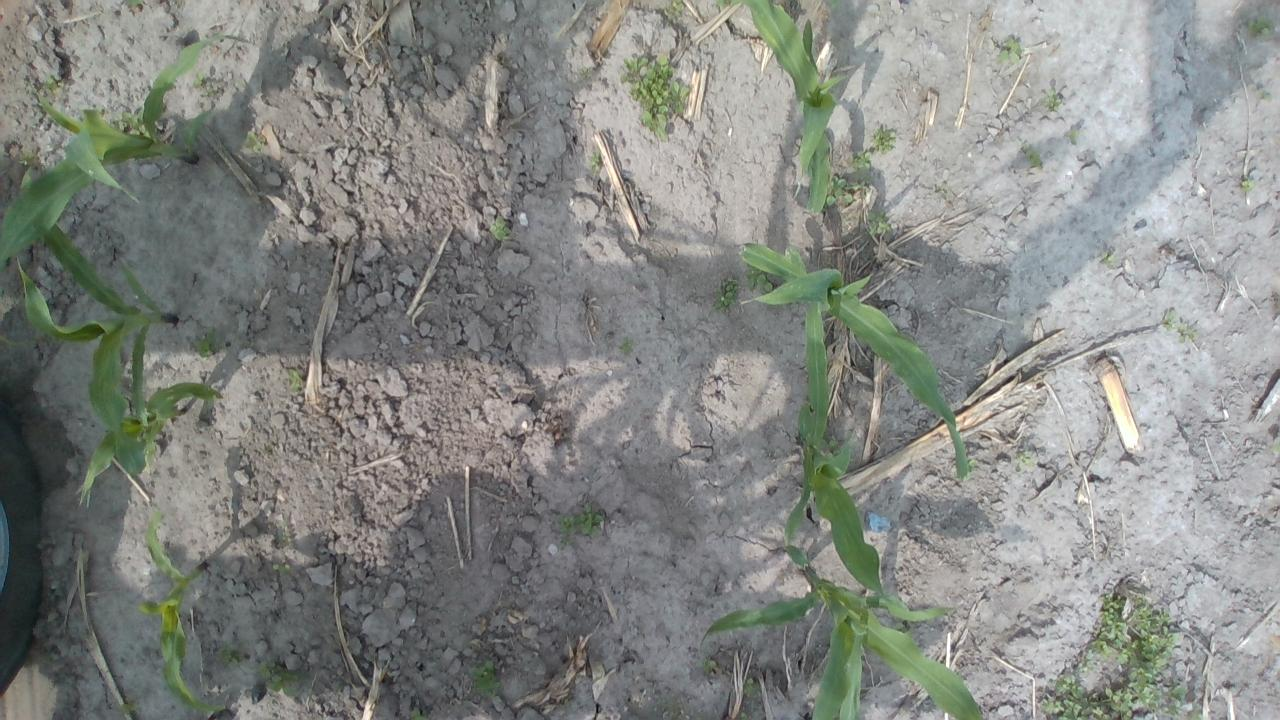Maize: (0, 34, 248, 266), (741, 239, 971, 482), (782, 302, 954, 622), (698, 543, 984, 720), (0, 165, 178, 434), (736, 0, 841, 213), (138, 508, 225, 720), (78, 379, 223, 506)
Weeds: (1093, 590, 1179, 720), (620, 52, 690, 144), (1038, 673, 1111, 720), (259, 660, 310, 698), (560, 502, 606, 540), (1164, 685, 1204, 720), (110, 108, 150, 138), (472, 658, 502, 696), (848, 150, 872, 193), (744, 262, 774, 294), (826, 174, 854, 207), (196, 323, 224, 356), (712, 278, 738, 313), (995, 37, 1024, 65), (870, 127, 899, 155), (866, 211, 893, 236), (1246, 15, 1275, 38), (192, 71, 216, 98), (40, 72, 64, 96), (489, 215, 512, 239), (1041, 87, 1063, 112), (1074, 648, 1094, 675), (1022, 142, 1042, 168), (220, 645, 245, 665), (244, 130, 265, 152), (1179, 322, 1199, 344), (1161, 306, 1179, 330), (820, 436, 841, 456), (118, 694, 138, 714), (743, 678, 762, 698), (664, 0, 685, 18), (286, 369, 302, 392), (697, 655, 717, 673), (405, 708, 432, 720), (1014, 450, 1034, 466), (272, 560, 290, 576), (1064, 127, 1080, 144), (1240, 175, 1256, 192), (1258, 88, 1274, 103), (1102, 250, 1117, 266), (618, 338, 634, 352), (589, 150, 600, 170), (280, 527, 291, 542), (709, 0, 732, 7), (1271, 438, 1280, 454), (125, 0, 145, 7), (579, 66, 588, 80), (334, 682, 344, 692), (740, 711, 751, 720)
